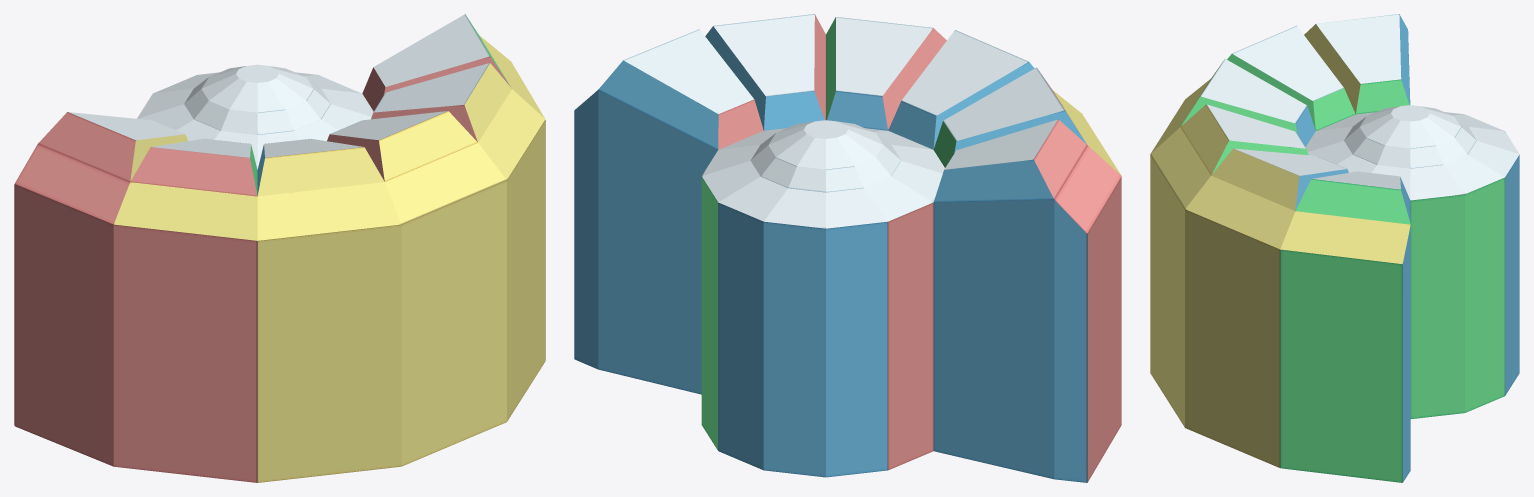
The model's file is DHD.fbx.
The picture shows the model from 3 angles, left to right: view 1: azimuth 30°, elevation 25°; view 2: azimuth 150°, elevation 25°; view 3: azimuth 270°, elevation 25°; orthographic projection. The views are drawn at different scales.
Parts seen in each view (by area): view 1: dhd, x, c, f, d, e, b, a; view 2: dhd, a, b, c, f, x, d, e; view 3: dhd, f, x, e, a, b, d, c.
Boxes of the visible parts, box(x1,y1,x2,y2) form: dhd: box(14, 35, 545, 482); x: box(184, 64, 330, 134); c: box(327, 111, 477, 181); f: box(38, 112, 187, 181); d: box(257, 138, 384, 196); e: box(130, 139, 257, 196); b: box(371, 63, 511, 142); a: box(362, 14, 511, 111); dhd: box(574, 89, 1121, 482); a: box(598, 29, 763, 149); b: box(705, 14, 825, 130); c: box(826, 17, 946, 130); f: box(934, 119, 1087, 202); x: box(750, 120, 901, 192); d: box(888, 30, 1034, 149); e: box(933, 67, 1086, 167); dhd: box(1150, 79, 1519, 482); f: box(1304, 14, 1410, 114); x: box(1344, 105, 1476, 168); e: box(1227, 25, 1355, 130); a: box(1295, 171, 1410, 224); b: box(1211, 148, 1348, 210); d: box(1181, 59, 1315, 146); c: box(1180, 104, 1308, 175).
Size of the model in its own units: 108 by 62.3 by 76.54.
2 materials, 2 textured.
